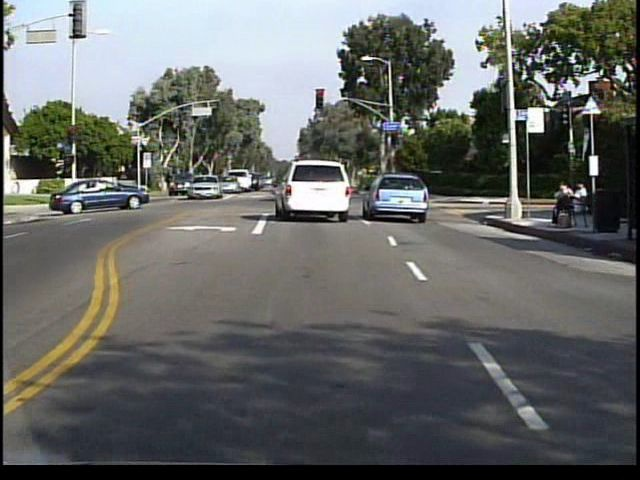person: (549, 179, 575, 229), (570, 179, 590, 229)
